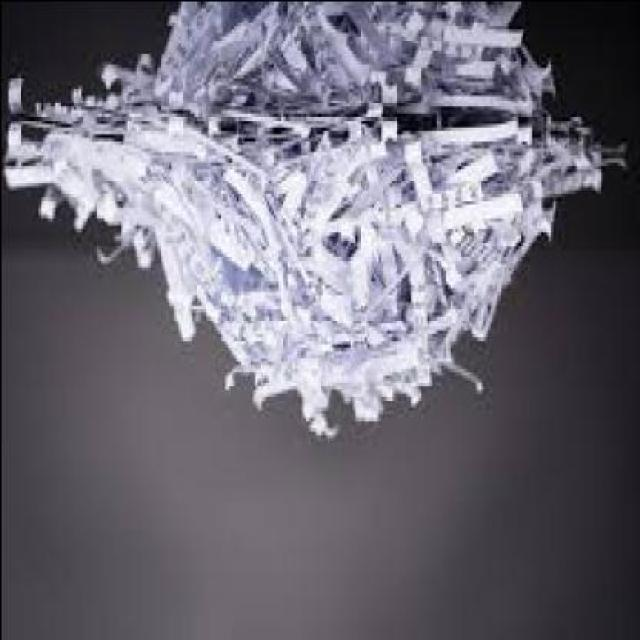PAPER: (2, 4, 628, 444)
